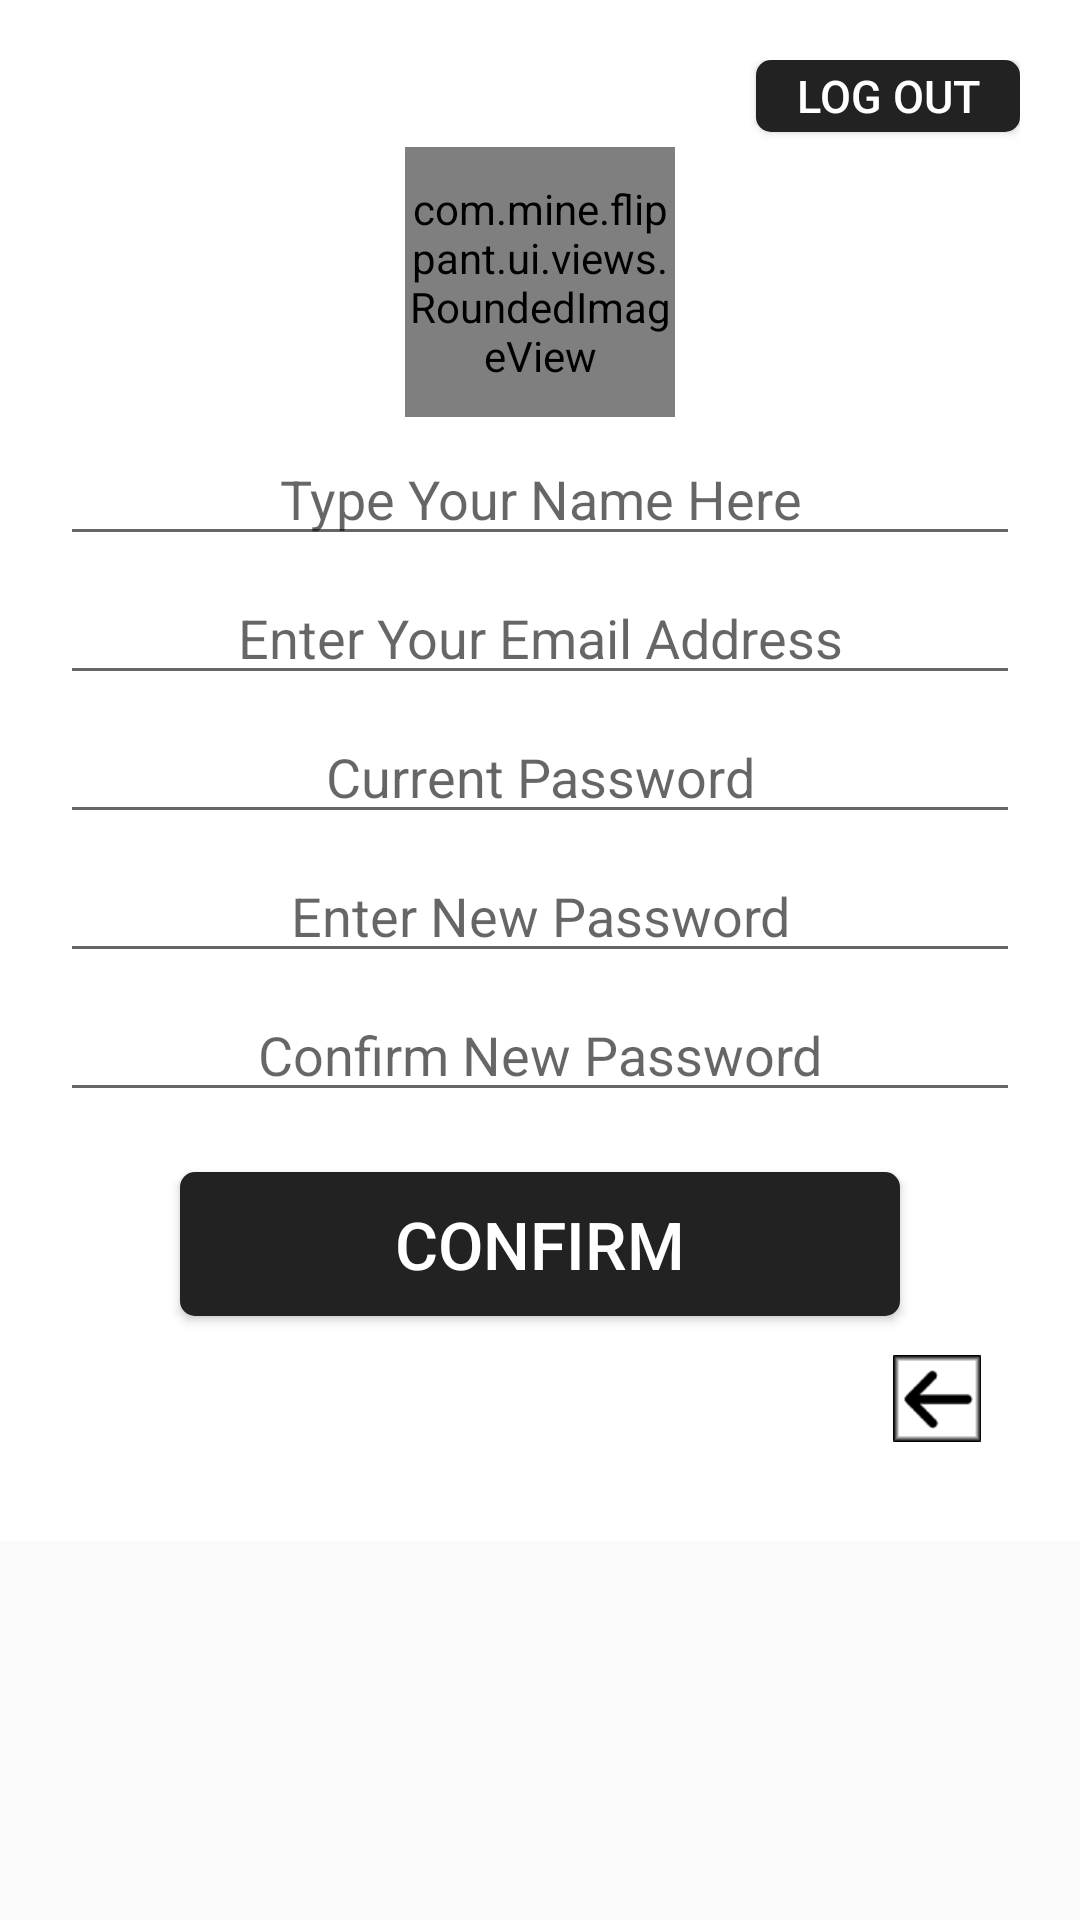

Where icons sit on this 1080x1920 app screen, as (x1, y1, x2, y2):
Back to Main: (893, 1355, 981, 1442)
